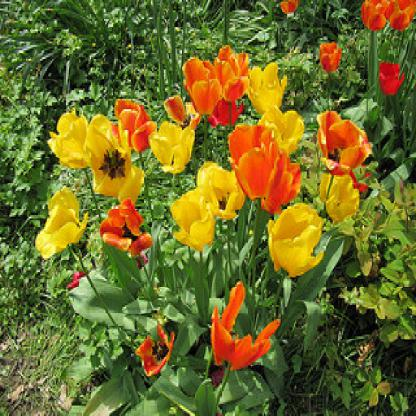TULIP: (38, 41, 381, 393)
